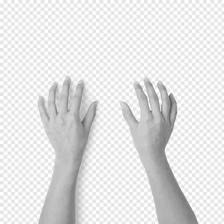Hand: (105, 140, 212, 218), (31, 17, 95, 140)
